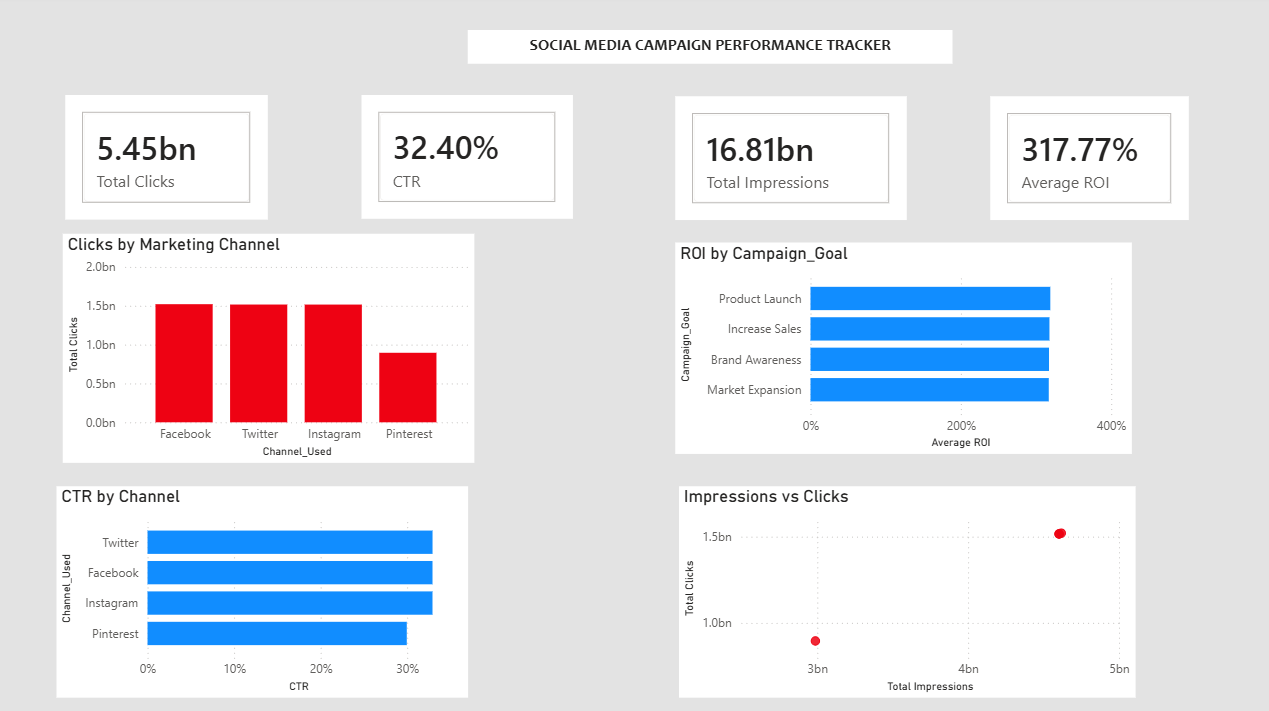

This screenshot's page, from the dashboard's own definition file:
{"tool":"powerbi","page":{"name":"Page 1","canvas":[1280,720],"ordinal":0},"visuals":[{"type":"cardVisual","fields":{"Data":["Social_Media_Advertising.Total Clicks"]},"box":[75.9,99.5,201.5,124.4],"z":0},{"type":"cardVisual","fields":{"Data":["Social_Media_Advertising.Total Impressions"]},"box":[682.9,100.8,230.1,123.2],"z":1000},{"type":"cardVisual","fields":{"Data":["Social_Media_Advertising.Average ROI"]},"box":[996.4,100.8,197.8,123.2],"z":2000},{"type":"cardVisual","fields":{"Data":["Social_Media_Advertising.CTR","select"]},"box":[370.7,99.5,210.2,123.2],"z":3000},{"type":"clusteredColumnChart","title":"Clicks by Marketing Channel","fields":{"Y":["Social_Media_Advertising.Total Clicks"],"Category":["Social_Media_Advertising.Channel_Used"]},"box":[73.4,237.6,409.3,227.6],"z":3001},{"type":"clusteredBarChart","title":"CTR by Channel","fields":{"Category":["Social_Media_Advertising.Channel_Used"],"Y":["Social_Media_Advertising.CTR"]},"box":[67.2,488.9,409.3,210.2],"z":3002},{"type":"clusteredBarChart","title":"ROI by Campaign_Goal","fields":{"Y":["Social_Media_Advertising.Average ROI"],"Category":["Social_Media_Advertising.Campaign_Goal"]},"box":[682.9,246.3,454,210.2],"z":3003},{"type":"scatterChart","title":"Impressions vs Clicks","fields":{"X":["Social_Media_Advertising.Total Impressions"],"Y":["Social_Media_Advertising.Total Clicks"],"Category":["Social_Media_Advertising.Channel_Used"]},"box":[686.7,488.9,454,210.2],"z":3004},{"type":"textbox","box":[476.4,34.8,482.7,33.6],"z":3005}]}

Visuals, with their boxes in screenshot pixels (x1, y1, x2, y2), scaled from the page's 1280x720 canvas onto the 1269x711 screenshot:
cardVisual - Social_Media_Advertising.Total Clicks: bbox=[75, 98, 275, 221]
cardVisual - Social_Media_Advertising.Total Impressions: bbox=[677, 100, 905, 221]
cardVisual - Social_Media_Advertising.Average ROI: bbox=[988, 100, 1184, 221]
cardVisual - Social_Media_Advertising.CTR x select: bbox=[368, 98, 576, 220]
"Clicks by Marketing Channel" clusteredColumnChart: bbox=[73, 235, 479, 459]
"CTR by Channel" clusteredBarChart: bbox=[67, 483, 472, 690]
"ROI by Campaign_Goal" clusteredBarChart: bbox=[677, 243, 1127, 451]
"Impressions vs Clicks" scatterChart: bbox=[681, 483, 1131, 690]
textbox: bbox=[472, 34, 951, 68]
